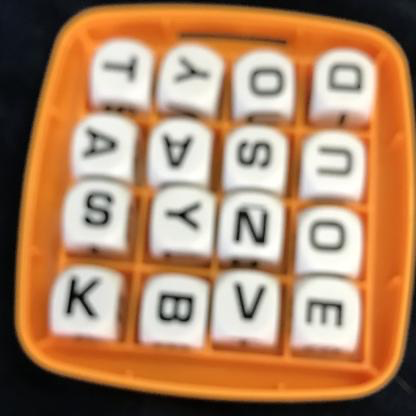a: (75, 118, 135, 180), (160, 121, 205, 177)
b: (145, 269, 200, 336)
d: (317, 52, 373, 106)
e: (292, 287, 358, 340)
k: (57, 270, 114, 329)
n: (225, 195, 280, 258)
o: (298, 212, 360, 263), (243, 57, 291, 110)
s: (72, 181, 124, 242), (236, 126, 280, 184)
t: (91, 33, 151, 98)
u: (307, 134, 368, 190)
v: (222, 273, 277, 330)
y: (157, 189, 215, 247), (170, 49, 219, 105)
